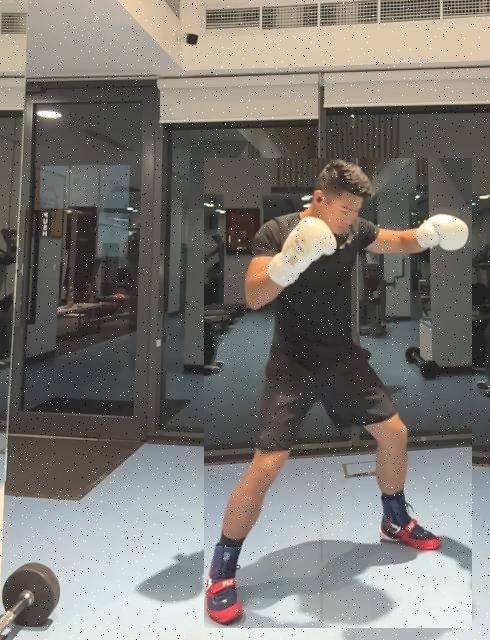punch: (204, 158, 472, 628)
